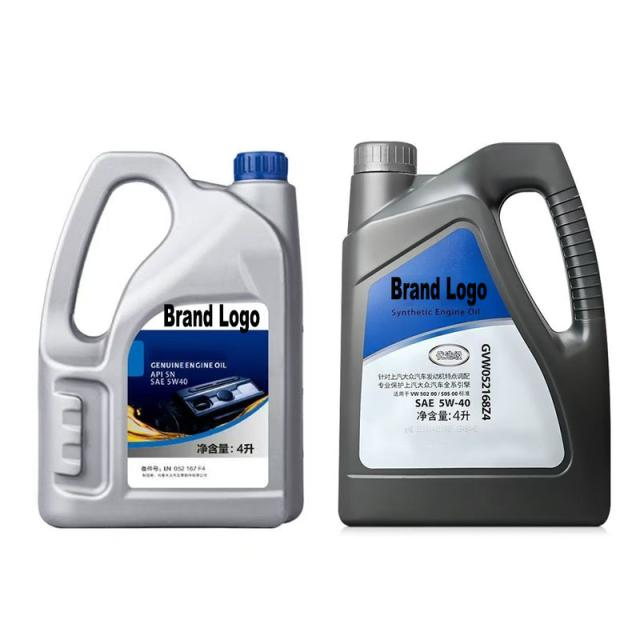motor_oil: (338, 132, 621, 556), (19, 140, 310, 537)
